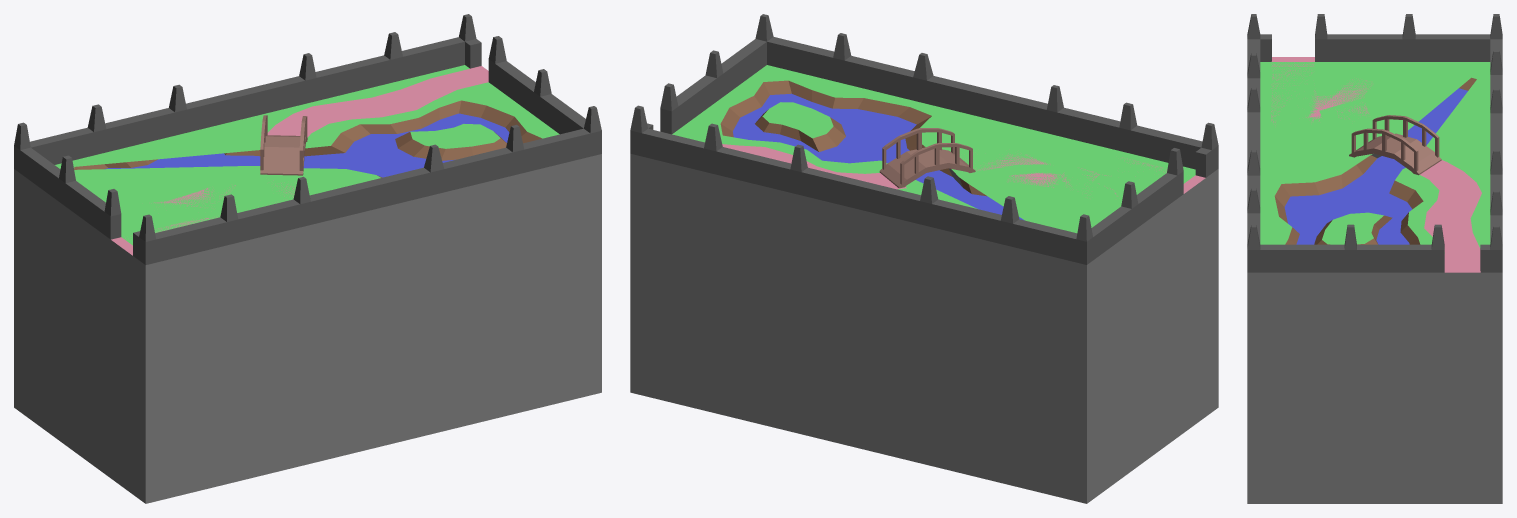
Rendered from 1x2 Park with bridge.fbx.
3 views of the same model, side by side, from view 1: azimuth 30°, elevation 25°; view 2: azimuth 150°, elevation 25°; view 3: azimuth 270°, elevation 25° (orthographic). The views are drawn at different scales.
Visible parts, largest first — view 1: Park 1x2 base, Bridge; view 2: Park 1x2 base, Bridge; view 3: Park 1x2 base, Bridge.
Boxes of the visible parts, <box> form: Park 1x2 base: <box>14,14,601,503</box>; Bridge: <box>260,115,307,175</box>; Park 1x2 base: <box>630,14,1218,503</box>; Bridge: <box>879,128,975,188</box>; Park 1x2 base: <box>1247,14,1502,503</box>; Bridge: <box>1349,115,1441,175</box>.
Bounding box in the file's own units: 4 × 2.38 × 2.
